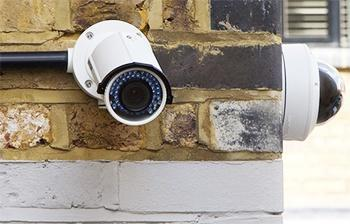CCTV: (65, 23, 173, 125), (266, 28, 347, 155)
